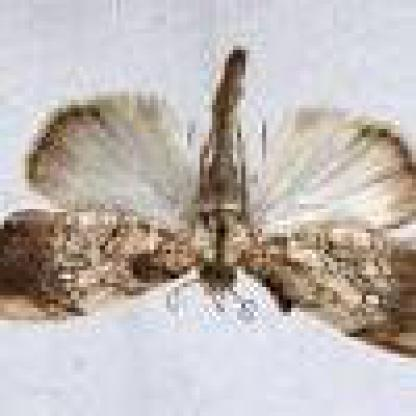Leaf Webber: (1, 43, 412, 362)
